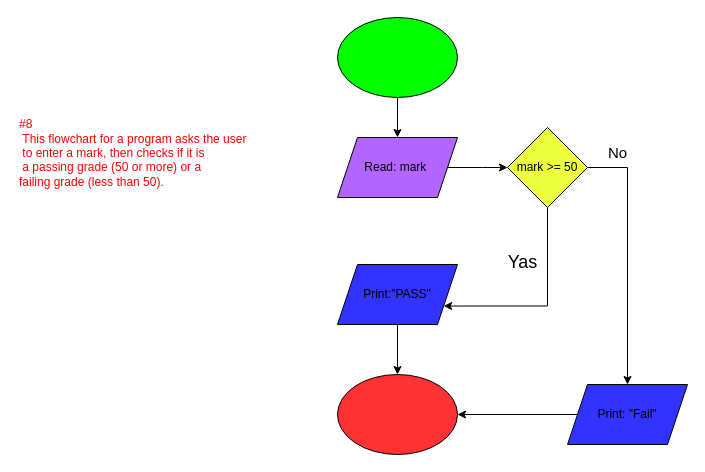
Image size: 705x472. Some labels were removed from this diagram. The shapes that lost their labels are listed below. From the top down, each one's centre as x and y in pixels, then its label:
At (397,57): "Start".
At (397,414): "End".
